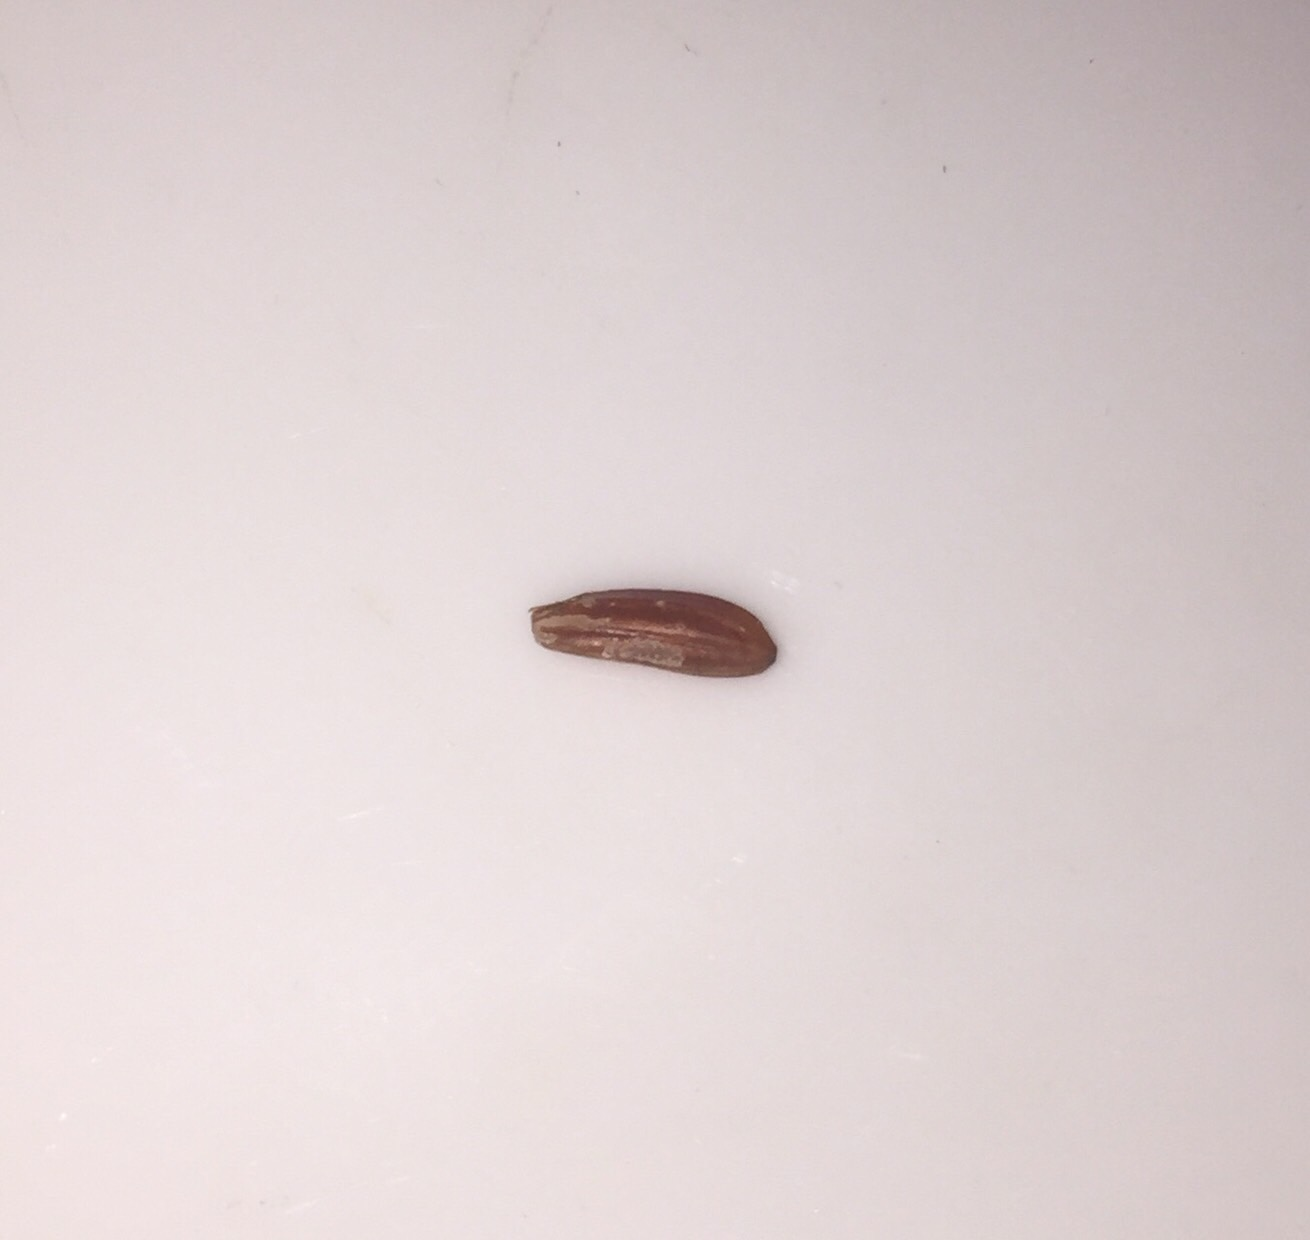Gao Huyet Rong: (516, 561, 786, 702)
